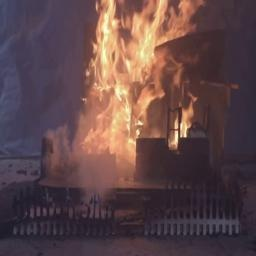fire: (59, 0, 235, 168)
